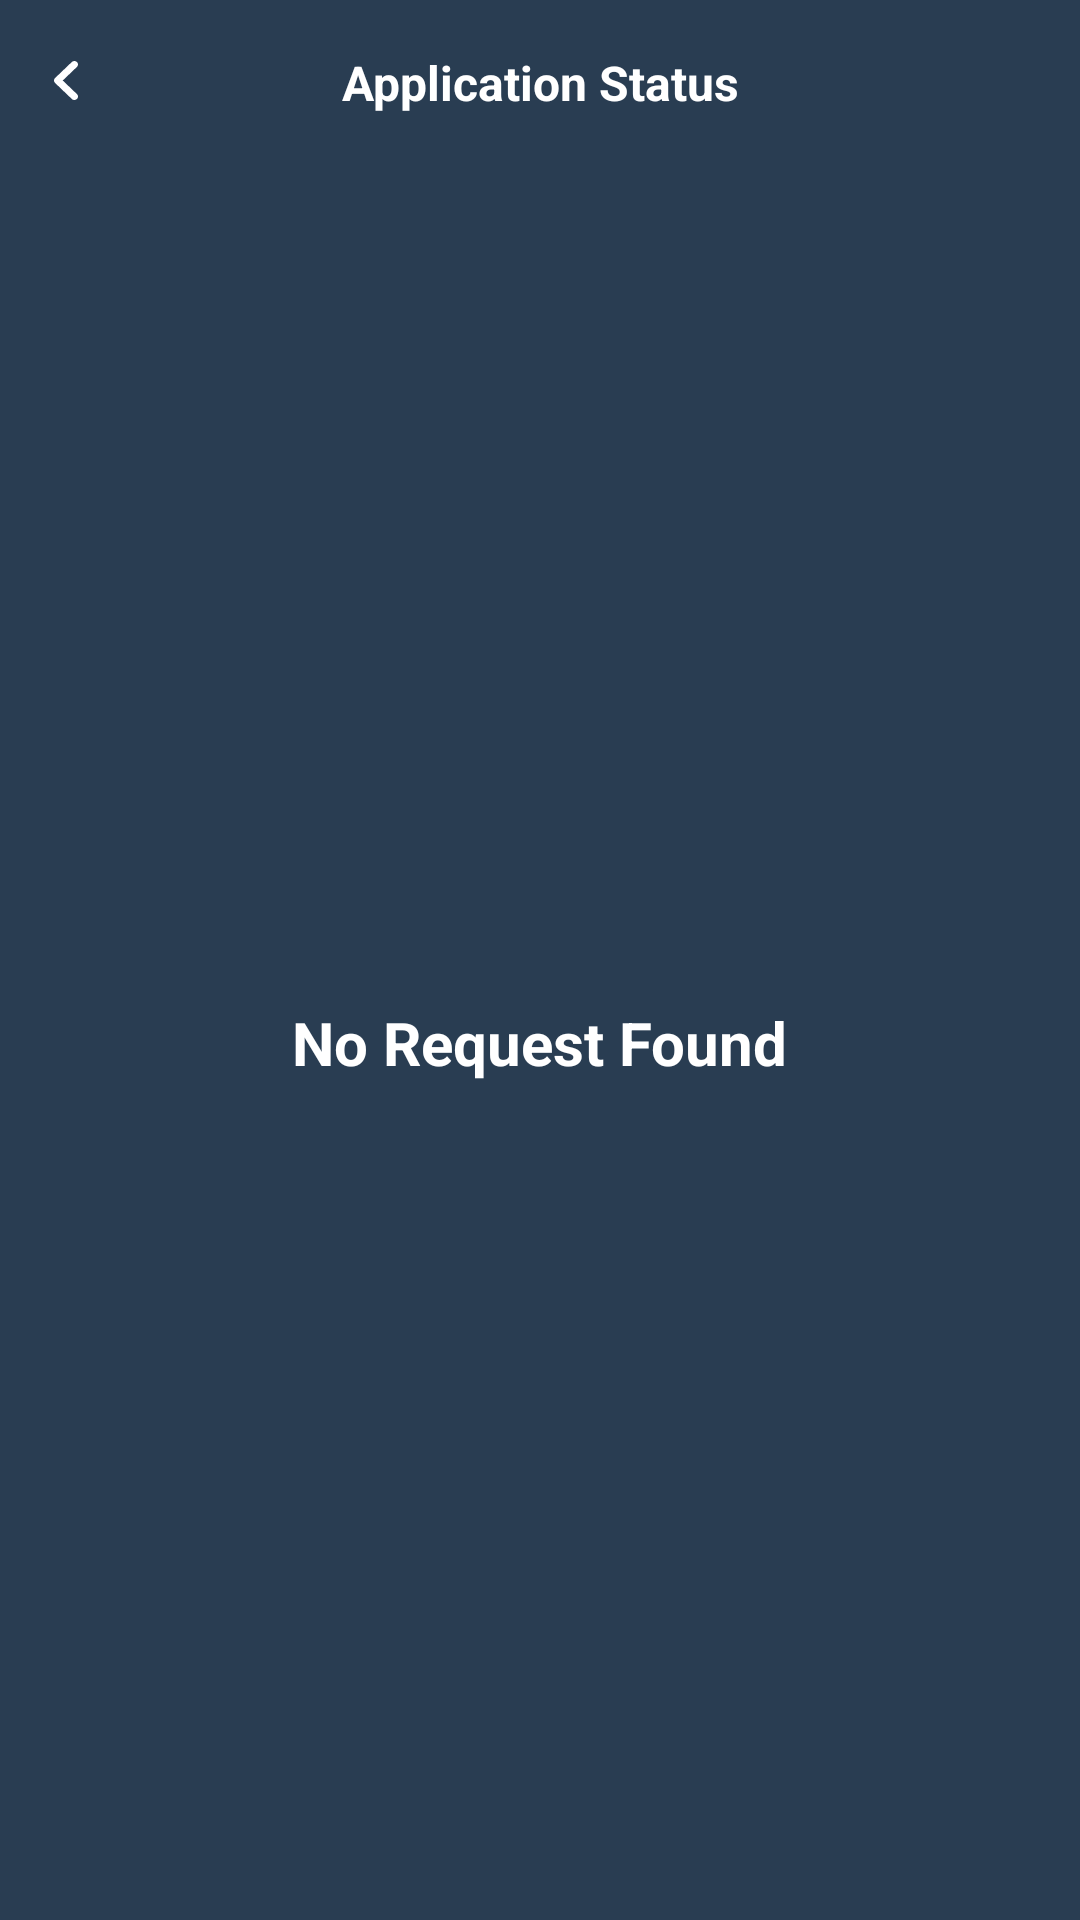

Locate icon controls on the screen. Image size 1080w x 1920h, boxes as bbox=[x1, y1, x2, y2].
back: bbox=[54, 61, 78, 100]
